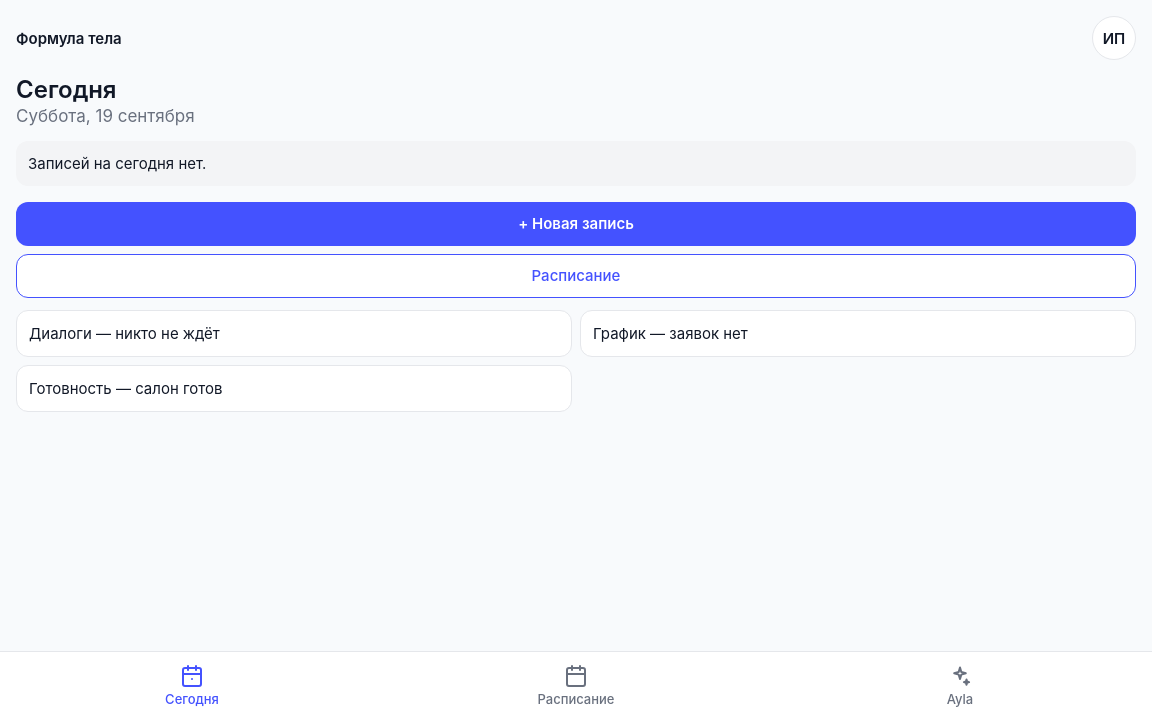
Scenario: аватар → лист (DRF-2115) › на «Сегодня» аватар с инициалами открывает лист из четырёх групп
Click the button with aria-label "Меню профиля": (1114, 38) [1092,16,1136,60]
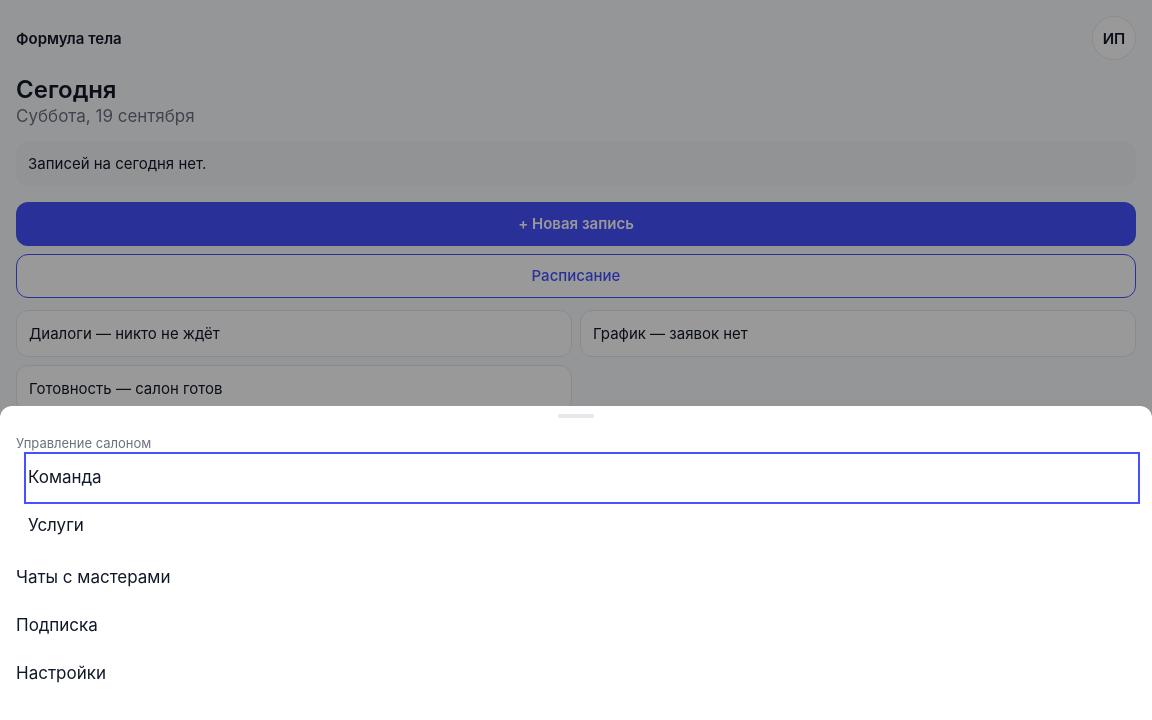
Result: the text "Управление салоном" is shown at [16,435,151,451]
Result: the button "Команда" is shown at [28,456,1136,500]
Result: the button "Услуги" is shown at [28,504,1136,548]
